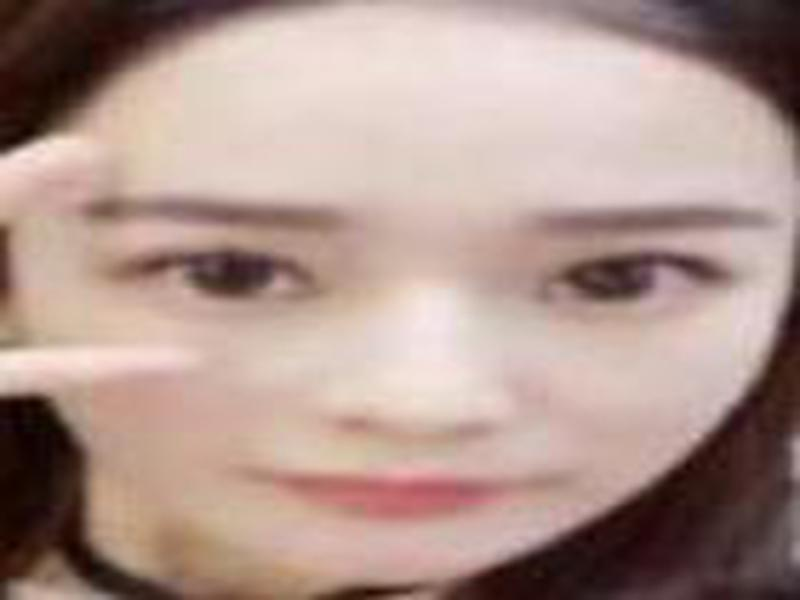without_mask: (4, 84, 800, 600)
